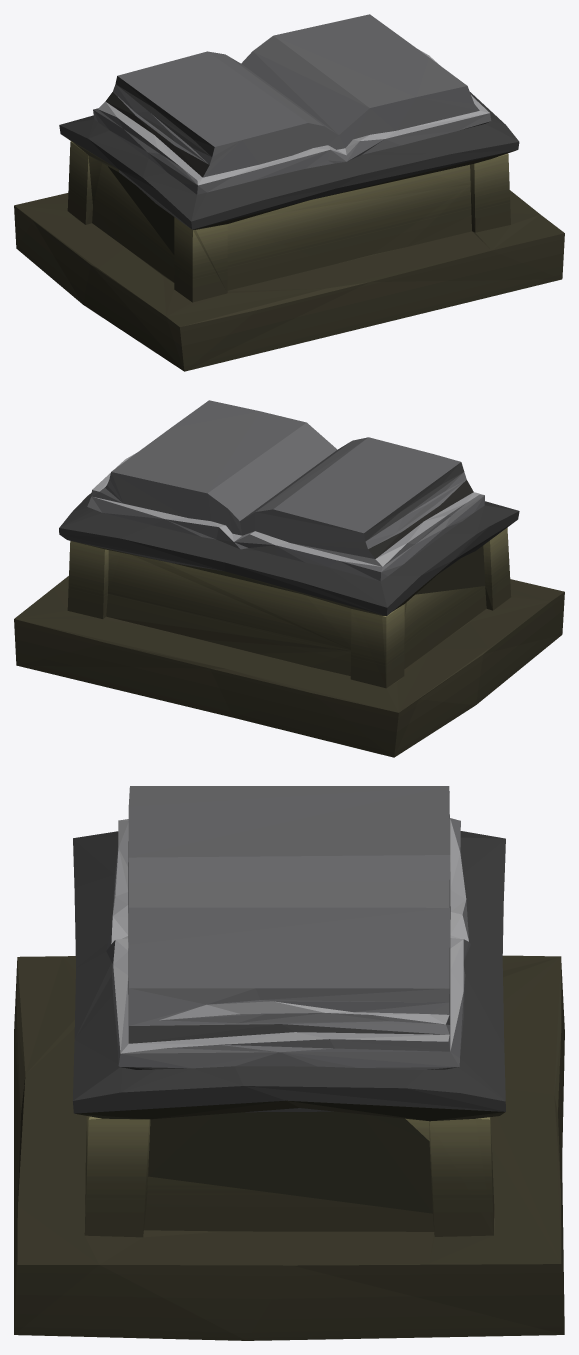
File: EA_Grave_Book_01a.fbx
The picture shows the model from 3 angles, top to bottom: view 1: azimuth 30°, elevation 25°; view 2: azimuth 150°, elevation 25°; view 3: azimuth 270°, elevation 25°; orthographic projection. The views are drawn at different scales.
Parts seen in each view (by area): view 1: EA_Grave_Book_01a_LOD0; view 2: EA_Grave_Book_01a_LOD0; view 3: EA_Grave_Book_01a_LOD0.
Boxes of the visible parts, left/top/right/bottom form: EA_Grave_Book_01a_LOD0: left=14, top=14, right=564, bottom=371; EA_Grave_Book_01a_LOD0: left=14, top=400, right=564, bottom=757; EA_Grave_Book_01a_LOD0: left=14, top=786, right=564, bottom=1340.
Size of what is drawn, in the model's own units: 3.1 by 1.39 by 2.3.
